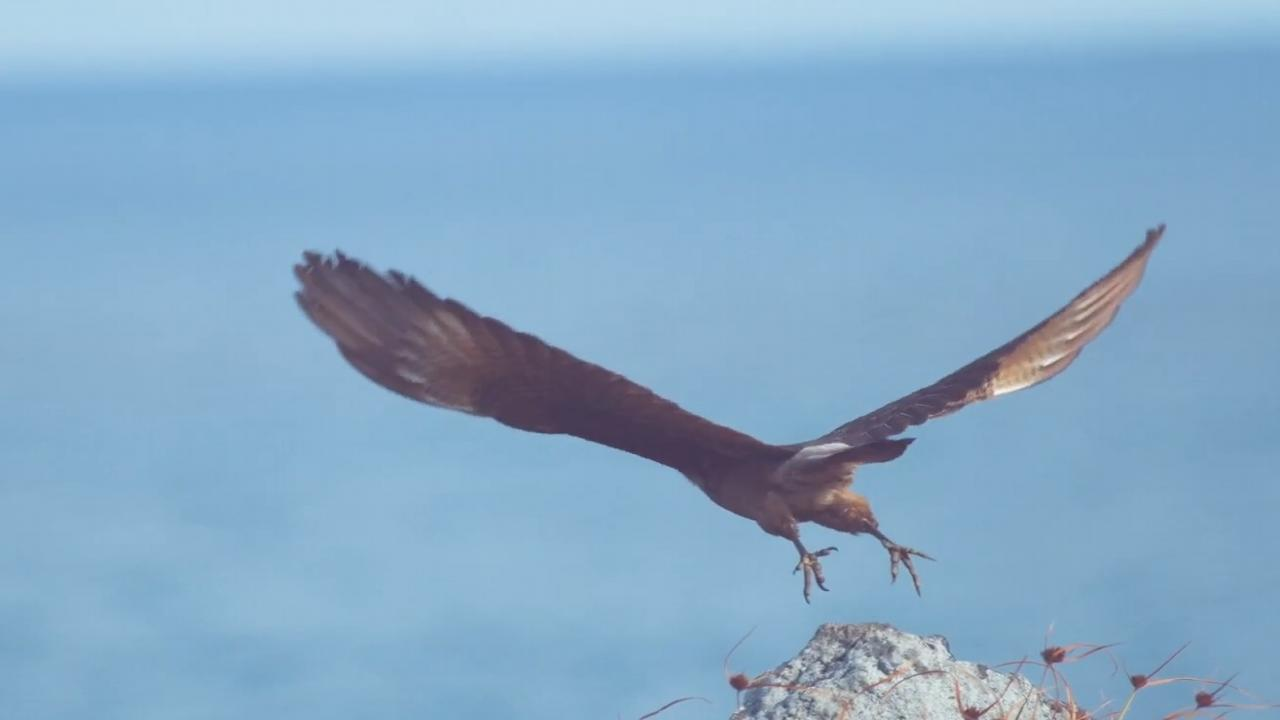Bird: (271, 217, 1181, 616)
